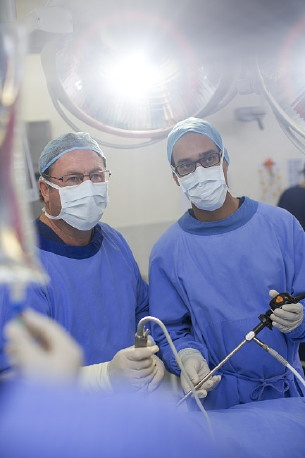Mask: (55, 165, 118, 229)
